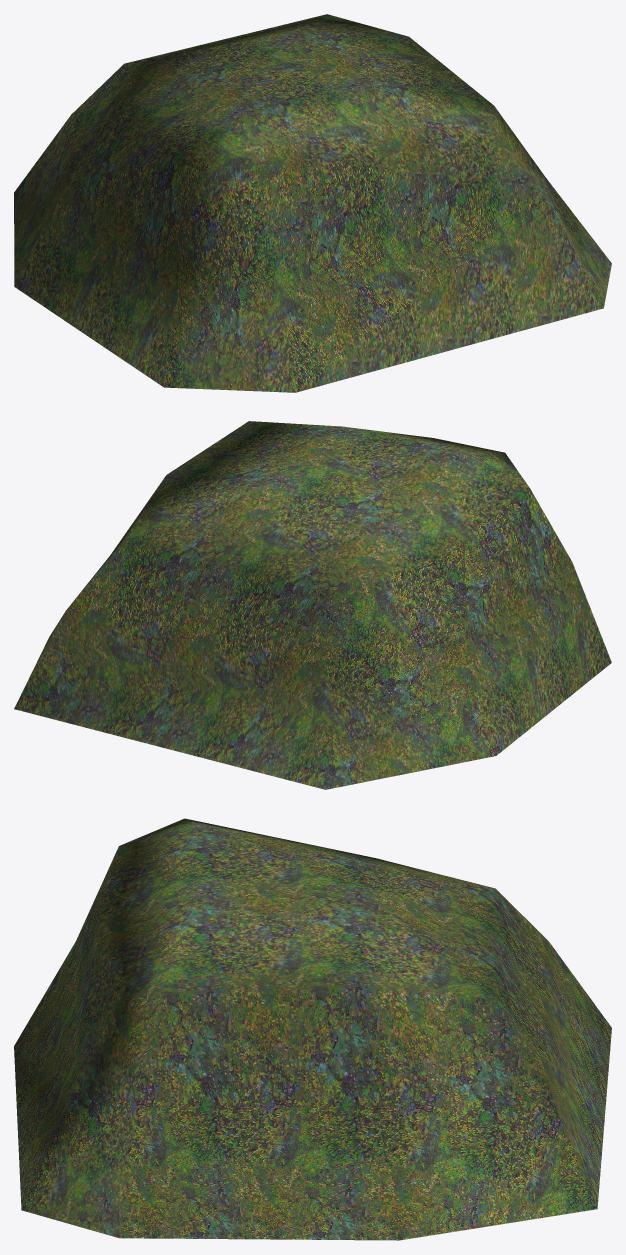
The model's file is rock_mossy_big_a1_l2.fbx.
3 renders of one model, top to bottom at view 1: azimuth 30°, elevation 25°; view 2: azimuth 150°, elevation 25°; view 3: azimuth 270°, elevation 25°, orthographic. The views are drawn at different scales.
Visible parts, largest first — view 1: mesh_node; view 2: mesh_node; view 3: mesh_node.
Boxes of the visible parts, left/top/right/bottom form: mesh_node: left=14, top=14, right=611, bottom=392; mesh_node: left=14, top=421, right=611, bottom=789; mesh_node: left=14, top=818, right=611, bottom=1240.
Size of the model in its own units: 7.08 by 3.14 by 6.99.
